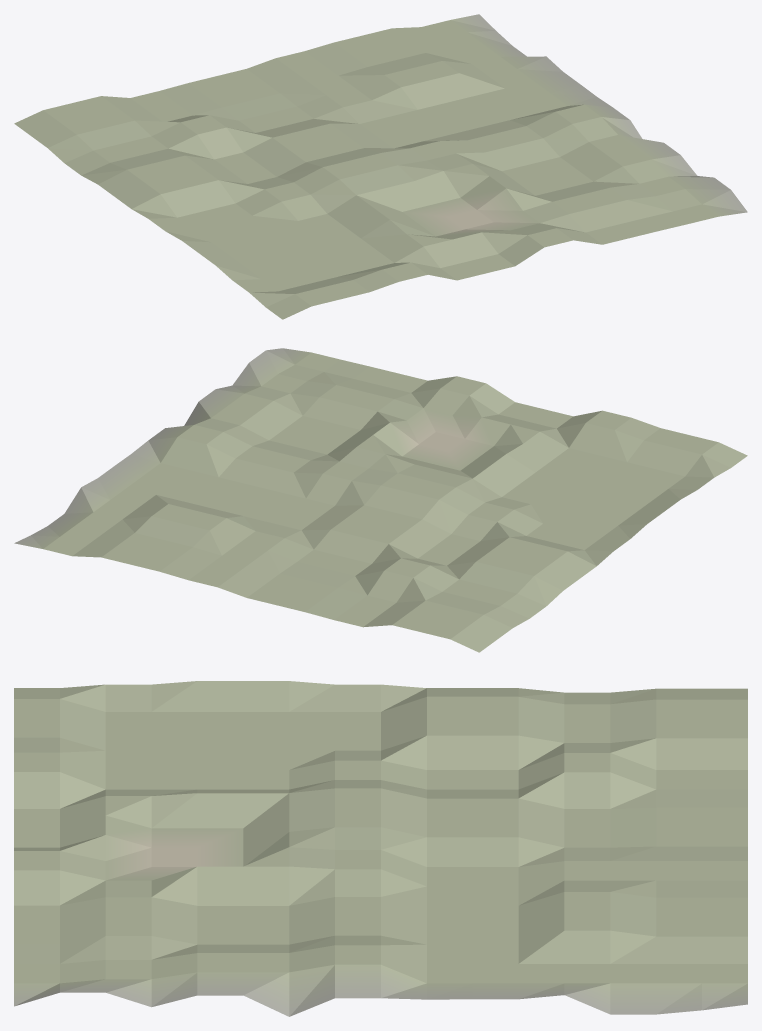
3 renders of one model, top to bottom at view 1: azimuth 30°, elevation 25°; view 2: azimuth 150°, elevation 25°; view 3: azimuth 270°, elevation 25°, orthographic. The views are drawn at different scales.
Bounding box in the file's own units: 32 × 1.67 × 32.
